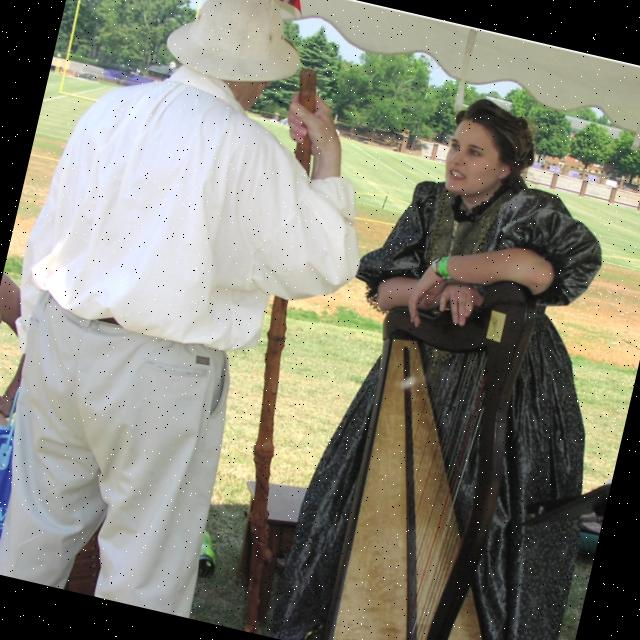harp: (294, 247, 601, 640)
